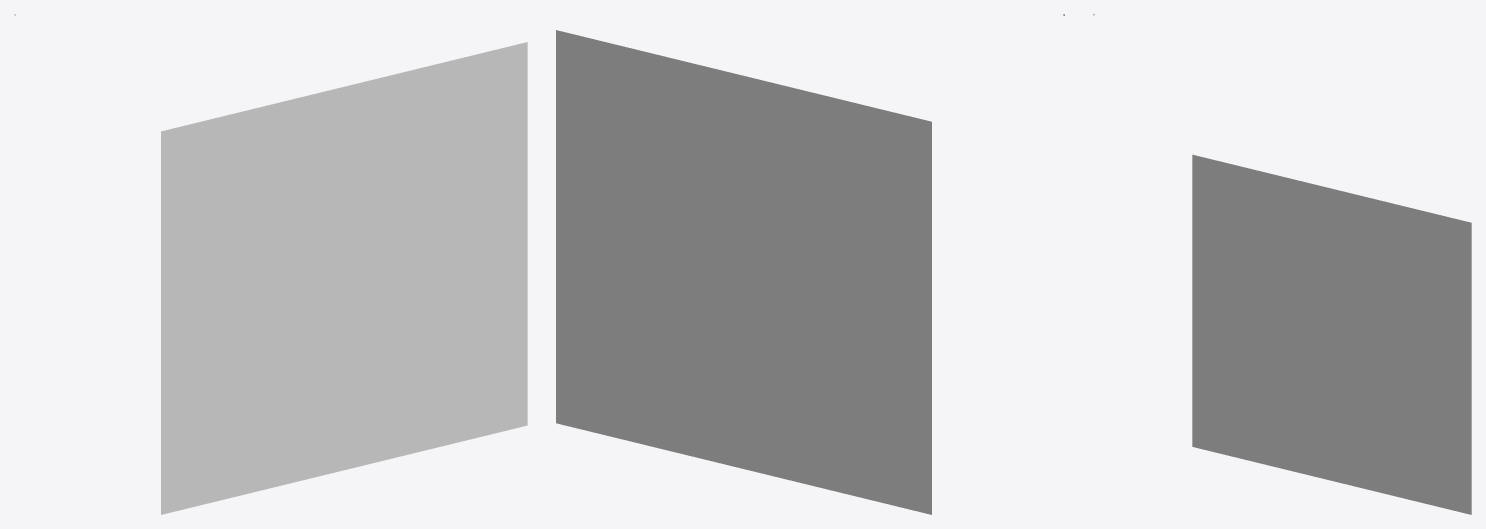
The model's file is Snore.glb.
3 views of the same model, side by side, from view 1: azimuth 30°, elevation 25°; view 2: azimuth 150°, elevation 25°; view 3: azimuth 330°, elevation 25° (orthographic). The views are drawn at different scales.
Visible parts, largest first — view 1: Snore3; view 2: Snore3; view 3: Snore3.
Part boxes in pixels (bbox=[...]): Snore3: bbox=[161, 42, 527, 514]; Snore3: bbox=[556, 30, 931, 514]; Snore3: bbox=[1192, 154, 1471, 514].
Bounding box in the file's own units: 0.00344 × 0.00344 × 0.0002.
Materials: 1 (1 with a texture image).
